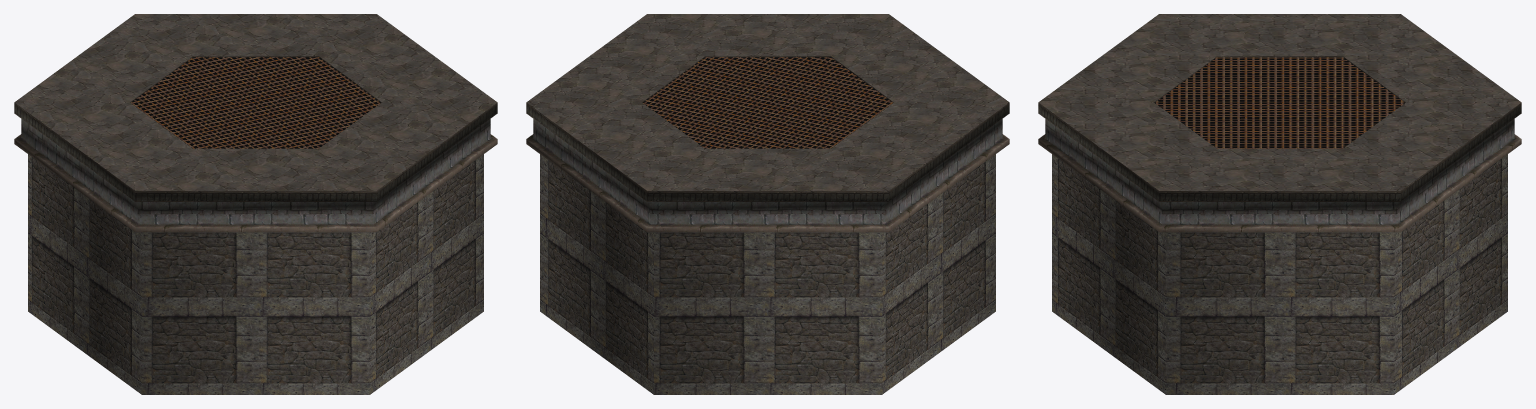
Rendered from environment_Building_qiaoliang_006_d.FBX.
3 renders of one model, left to right at view 1: azimuth 30°, elevation 25°; view 2: azimuth 150°, elevation 25°; view 3: azimuth 270°, elevation 25°, orthographic.
Visible parts, largest first — view 1: environment_Building_qiaoliang_006_d03, environment_Building_qiaoliang_006_d02, environment_Building_qiaoliang_006_d01, environment_Building_qiaoliang_006_d04; view 2: environment_Building_qiaoliang_006_d03, environment_Building_qiaoliang_006_d02, environment_Building_qiaoliang_006_d01, environment_Building_qiaoliang_006_d04; view 3: environment_Building_qiaoliang_006_d03, environment_Building_qiaoliang_006_d02, environment_Building_qiaoliang_006_d01, environment_Building_qiaoliang_006_d04.
Boxes of the visible parts, bbox=[...] form: environment_Building_qiaoliang_006_d03: bbox=[28, 154, 483, 394]; environment_Building_qiaoliang_006_d02: bbox=[14, 14, 497, 190]; environment_Building_qiaoliang_006_d01: bbox=[14, 56, 497, 232]; environment_Building_qiaoliang_006_d04: bbox=[131, 57, 380, 148]; environment_Building_qiaoliang_006_d03: bbox=[540, 154, 995, 394]; environment_Building_qiaoliang_006_d02: bbox=[526, 14, 1009, 190]; environment_Building_qiaoliang_006_d01: bbox=[526, 56, 1009, 232]; environment_Building_qiaoliang_006_d04: bbox=[643, 57, 892, 148]; environment_Building_qiaoliang_006_d03: bbox=[1052, 154, 1507, 394]; environment_Building_qiaoliang_006_d02: bbox=[1038, 14, 1521, 190]; environment_Building_qiaoliang_006_d01: bbox=[1038, 56, 1521, 232]; environment_Building_qiaoliang_006_d04: bbox=[1155, 57, 1404, 148].
Size of the model in its own units: 875 by 482 by 1010.
